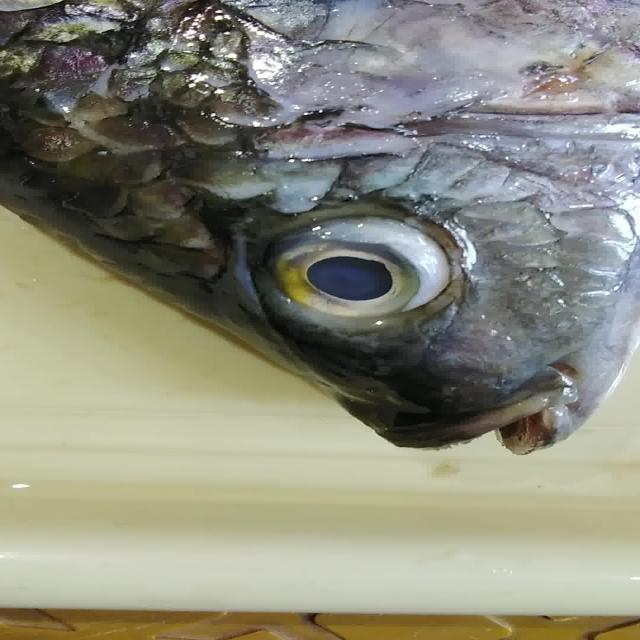Fresh: (230, 186, 502, 337)
